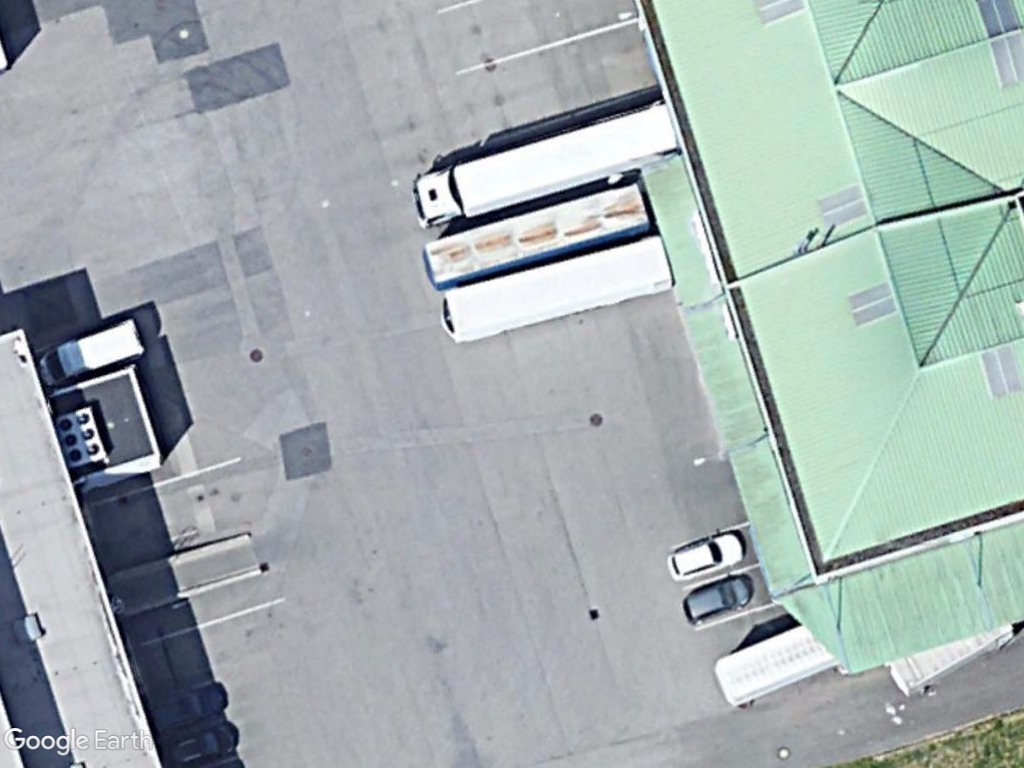car: (662, 527, 747, 584), (678, 574, 753, 630)
longvehicle: (402, 96, 678, 237)
van: (36, 314, 144, 390)
